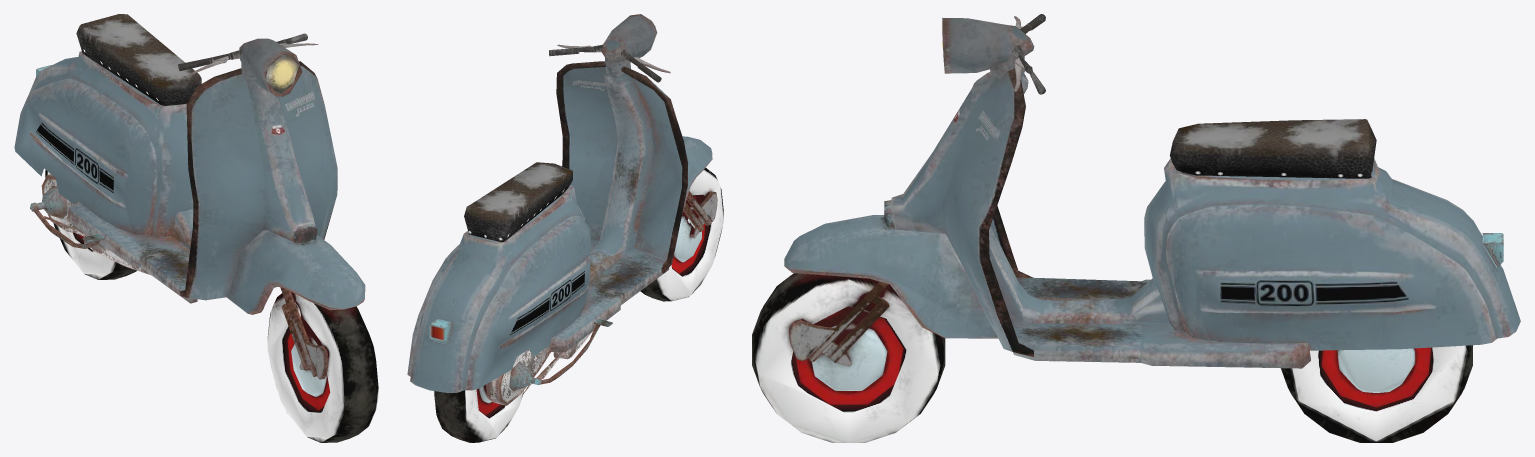
The model's file is moto_lambretta.glb.
3 views of the same model, side by side, from view 1: azimuth 30°, elevation 25°; view 2: azimuth 150°, elevation 25°; view 3: azimuth 270°, elevation 25° (orthographic). The views are drawn at different scales.
Parts seen in each view (by area): view 1: Object_2; view 2: Object_2; view 3: Object_2.
Part boxes in pixels (box(x1,y1,x2,y2)): Object_2: box(14, 14, 378, 442); Object_2: box(407, 14, 723, 442); Object_2: box(752, 14, 1520, 442).
Bounding box in the file's own units: 0.4894 × 1.08 × 1.8.
Materials: 1 (1 with a texture image).
